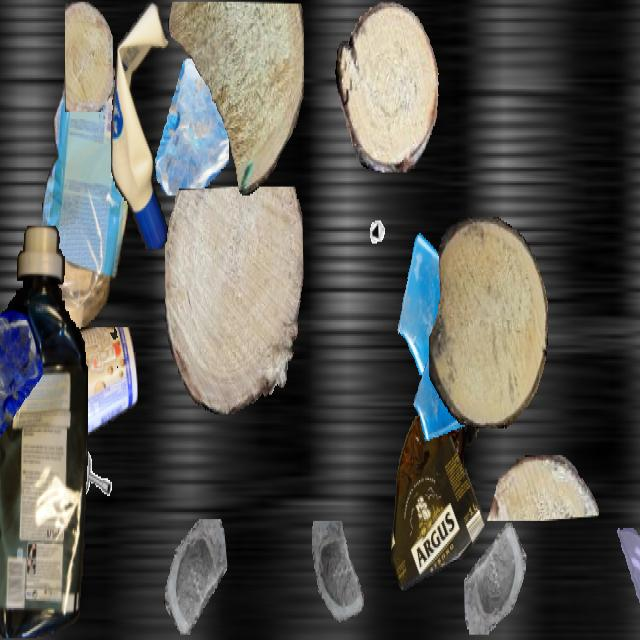glass: (395, 220, 487, 384), (152, 58, 228, 194), (307, 521, 373, 638), (163, 519, 227, 633), (413, 338, 477, 452), (0, 306, 43, 473), (464, 523, 526, 633), (0, 478, 31, 638), (614, 524, 640, 628)
metal: (70, 448, 118, 533), (367, 190, 405, 258)
plastic: (0, 226, 88, 638), (42, 62, 128, 372), (391, 398, 485, 590), (111, 2, 175, 247), (38, 327, 138, 452)
wood: (165, 187, 303, 414), (168, 2, 304, 194), (429, 217, 547, 427), (335, 2, 439, 172), (485, 455, 599, 519), (65, 2, 113, 112)
